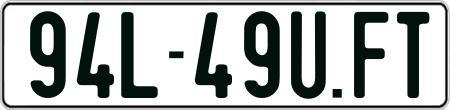4: (76, 9, 119, 98), (192, 11, 232, 97)
9: (244, 9, 286, 100), (27, 8, 65, 99)
F: (352, 11, 389, 98)
L: (118, 12, 157, 100)
T: (397, 11, 429, 100)
U: (288, 10, 328, 101)
